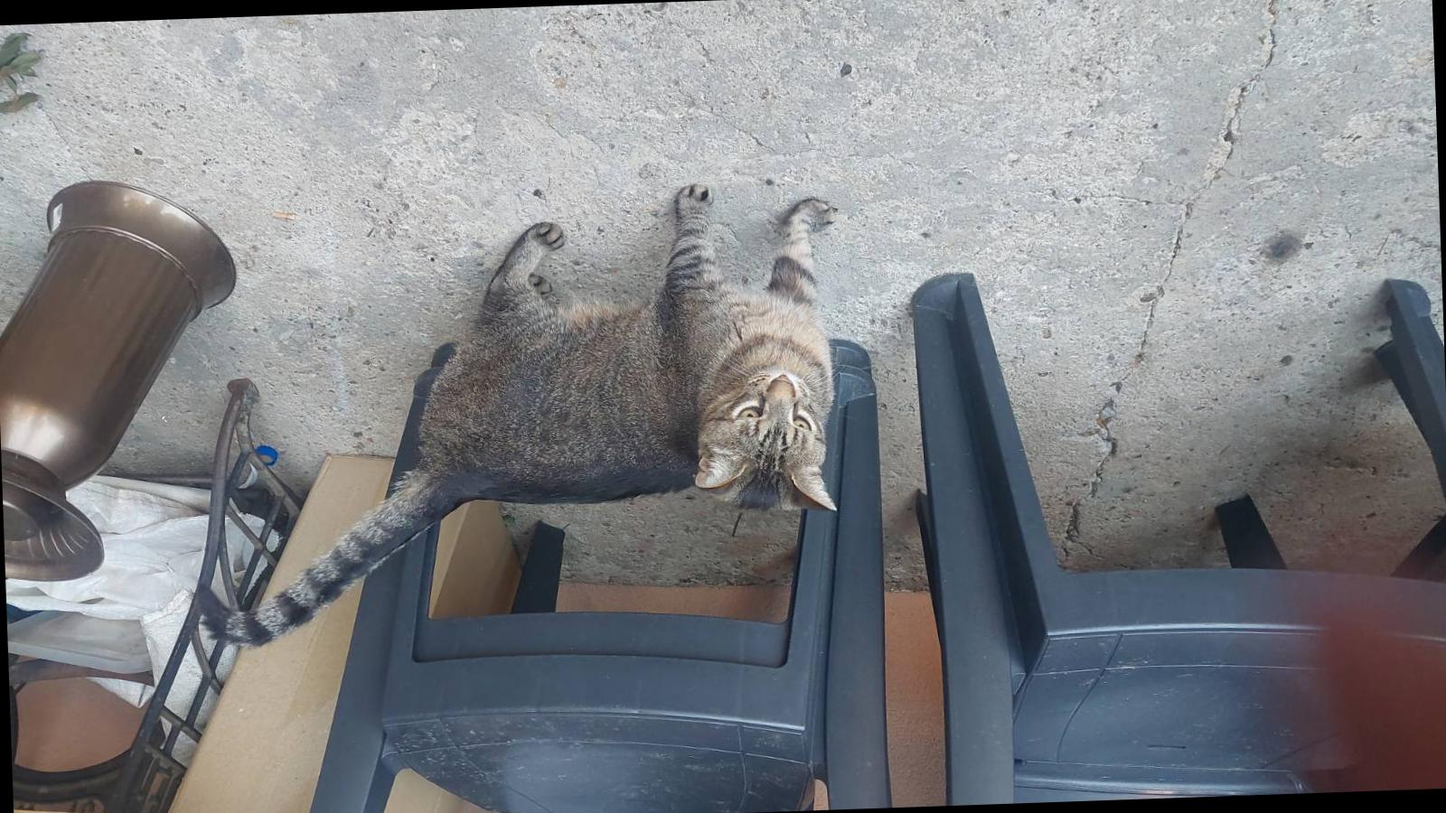macka: (190, 177, 850, 650)
